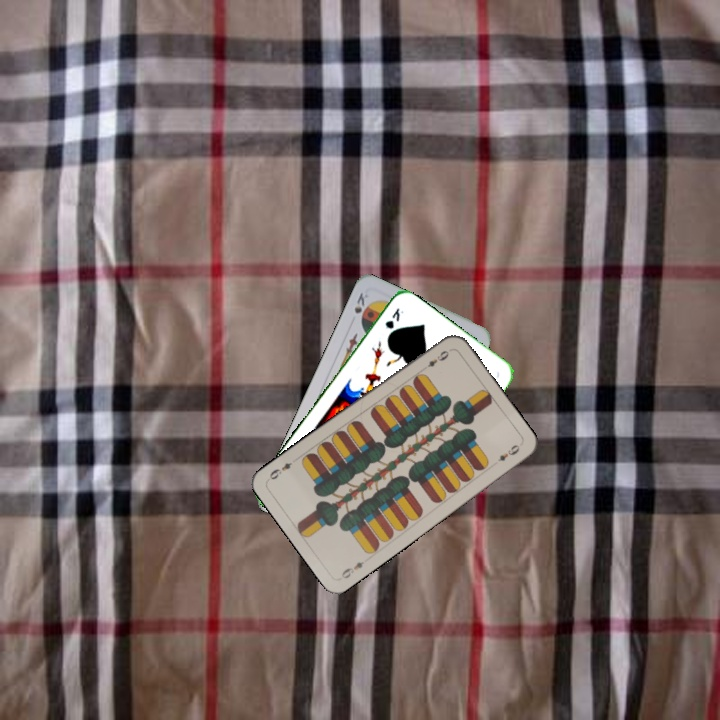E9: (337, 557, 367, 581), (424, 346, 452, 370)
GK: (381, 304, 406, 332)
SK: (350, 288, 371, 316)
